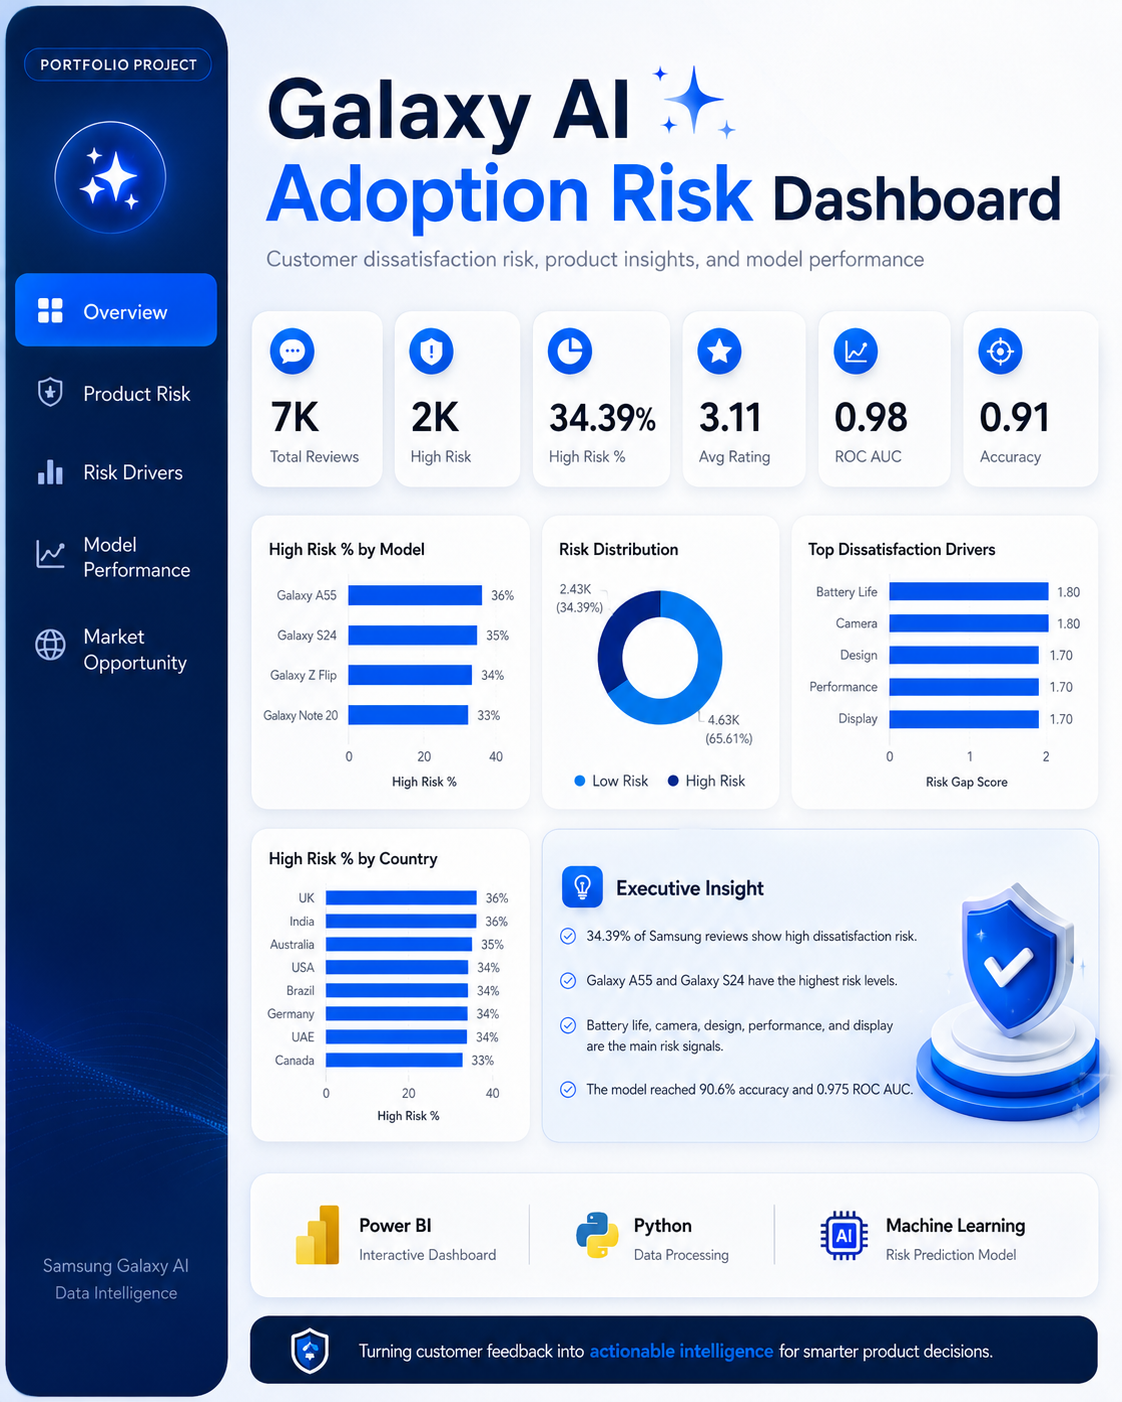

The dashboard page shown, as its layout file describes it:
{"tool":"powerbi","page":{"name":"Executive Overview","canvas":[1280,720],"ordinal":0},"visuals":[{"type":"shape","box":[0,0,203.3,721.7],"z":0},{"type":"shape","box":[8.8,75.4,100,63.1],"z":1000},{"type":"textbox","box":[396.4,0,736.6,61.4],"z":2000},{"type":"textbox","box":[493.3,55,365,40],"z":3000},{"type":"cardVisual","fields":{"Data":["samsung_reviews_with_risk.Total Samsung Reviews"]},"box":[203.6,112.2,174.7,126.6],"z":4000},{"type":"cardVisual","fields":{"Data":["samsung_reviews_with_risk.High Risk Reviews"]},"box":[396.7,113.3,155,125],"z":5000},{"type":"cardVisual","fields":{"Data":["samsung_reviews_with_risk.High Risk Percentage"]},"box":[560,113.3,183.3,126.7],"z":6000},{"type":"cardVisual","fields":{"Data":["samsung_model_metrics.Model Accuracy"]},"box":[1108,110.4,172,128],"z":7000},{"type":"cardVisual","fields":{"Data":["samsung_model_metrics.ROC AUC"]},"box":[940,110,162,128],"z":8000},{"type":"cardVisual","fields":{"Data":["samsung_reviews_with_risk.Average Rating"]},"box":[754,112.4,172,128],"z":9000},{"type":"donutChart","title":"Risk Distribution","fields":{"Category":["samsung_reviews_with_risk.risk_label"],"Y":["CountNonNull(samsung_reviews_with_risk.review_id)"]},"box":[608,264,310,198],"z":10000},{"type":"clusteredBarChart","title":"High Risk % by Model","fields":{"Category":["samsung_model_risk_summary.model"],"Y":["Sum(samsung_model_risk_summary.high_risk_percentage)"]},"box":[224,262,366,200],"z":11000},{"type":"clusteredBarChart","title":"Top Dissatisfaction Drivers","fields":{"Category":["samsung_feature_gap_summary.Clean Feature Name"],"Y":["Sum(samsung_feature_gap_summary.risk_gap)"]},"box":[940,262,340,200],"z":12000},{"type":"textbox","box":[606.7,481.7,526.7,238.3],"z":13000},{"type":"clusteredBarChart","title":"High Risk % by Country","fields":{"Category":["samsung_country_risk_summary.country"],"Y":["Sum(samsung_country_risk_summary.high_risk_percentage)"]},"box":[221.7,481.7,368.3,238.3],"z":14000},{"type":"textbox","box":[13.3,88.3,216.7,350],"z":16000}]}

Visuals, with their boxes on the page's 1280x720 design canvas (x1, y1, x2, y2). These are canvas units, not pixel positions in the 1122x1402 screenshot, which may show the page scaled, cropped or inside an application window:
shape: crop(0, 0, 203, 722)
shape: crop(9, 75, 109, 138)
textbox: crop(396, 0, 1133, 61)
textbox: crop(493, 55, 858, 95)
cardVisual - samsung_reviews_with_risk.Total Samsung Reviews: crop(204, 112, 378, 239)
cardVisual - samsung_reviews_with_risk.High Risk Reviews: crop(397, 113, 552, 238)
cardVisual - samsung_reviews_with_risk.High Risk Percentage: crop(560, 113, 743, 240)
cardVisual - samsung_model_metrics.Model Accuracy: crop(1108, 110, 1280, 238)
cardVisual - samsung_model_metrics.ROC AUC: crop(940, 110, 1102, 238)
cardVisual - samsung_reviews_with_risk.Average Rating: crop(754, 112, 926, 240)
"Risk Distribution" donutChart: crop(608, 264, 918, 462)
"High Risk % by Model" clusteredBarChart: crop(224, 262, 590, 462)
"Top Dissatisfaction Drivers" clusteredBarChart: crop(940, 262, 1280, 462)
textbox: crop(607, 482, 1133, 720)
"High Risk % by Country" clusteredBarChart: crop(222, 482, 590, 720)
textbox: crop(13, 88, 230, 438)
